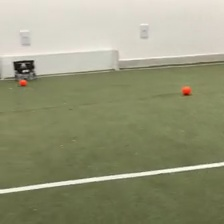ball: (181, 84, 192, 96), (19, 78, 27, 87)
goal: (1, 48, 122, 81)
robot: (11, 58, 36, 80)
